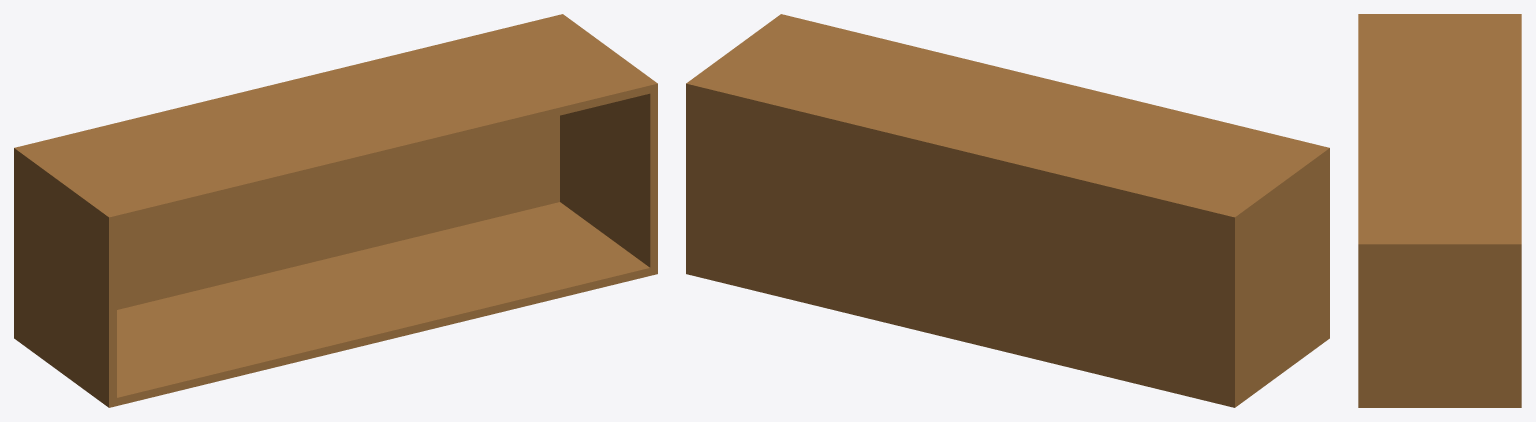
File: bookshelf.glb
The picture shows the model from 3 angles, left to right: view 1: azimuth 30°, elevation 25°; view 2: azimuth 150°, elevation 25°; view 3: azimuth 270°, elevation 25°; orthographic projection. The views are drawn at different scales.
Visible parts, largest first — view 1: Cube; view 2: Cube; view 3: Cube.
Part boxes in pixels (<box>): Cube: <box>14,14,657,407</box>; Cube: <box>686,14,1329,407</box>; Cube: <box>1358,14,1521,407</box>.
Size of the model in its own units: 2 by 0.6633 by 0.6.
